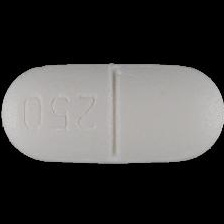53808-0261: (0, 0, 224, 224)
